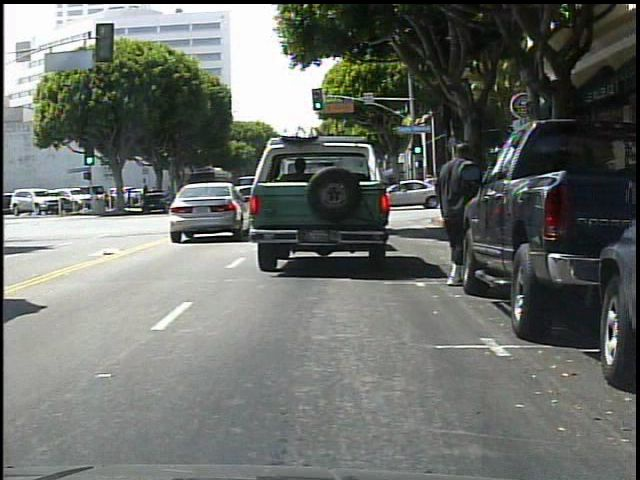person: (434, 144, 485, 284)
